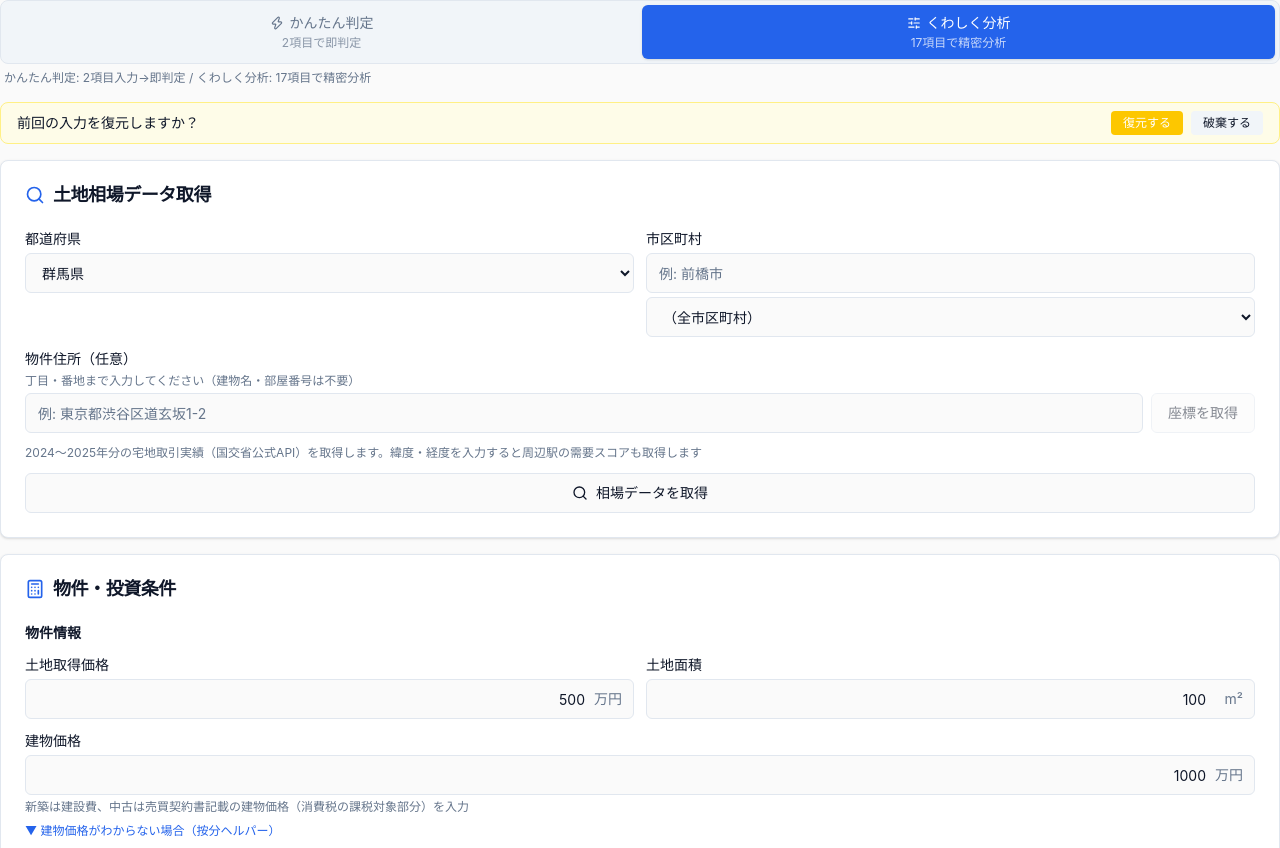
it: InvestmentForm › 住所ジオコーディング › 上流エラー時にエラーメッセージと手動入力フォールバックが表示される
Type "東京都渋谷区" into the field named "物件住所" at (584, 413), box 25,393 -> 1143,433
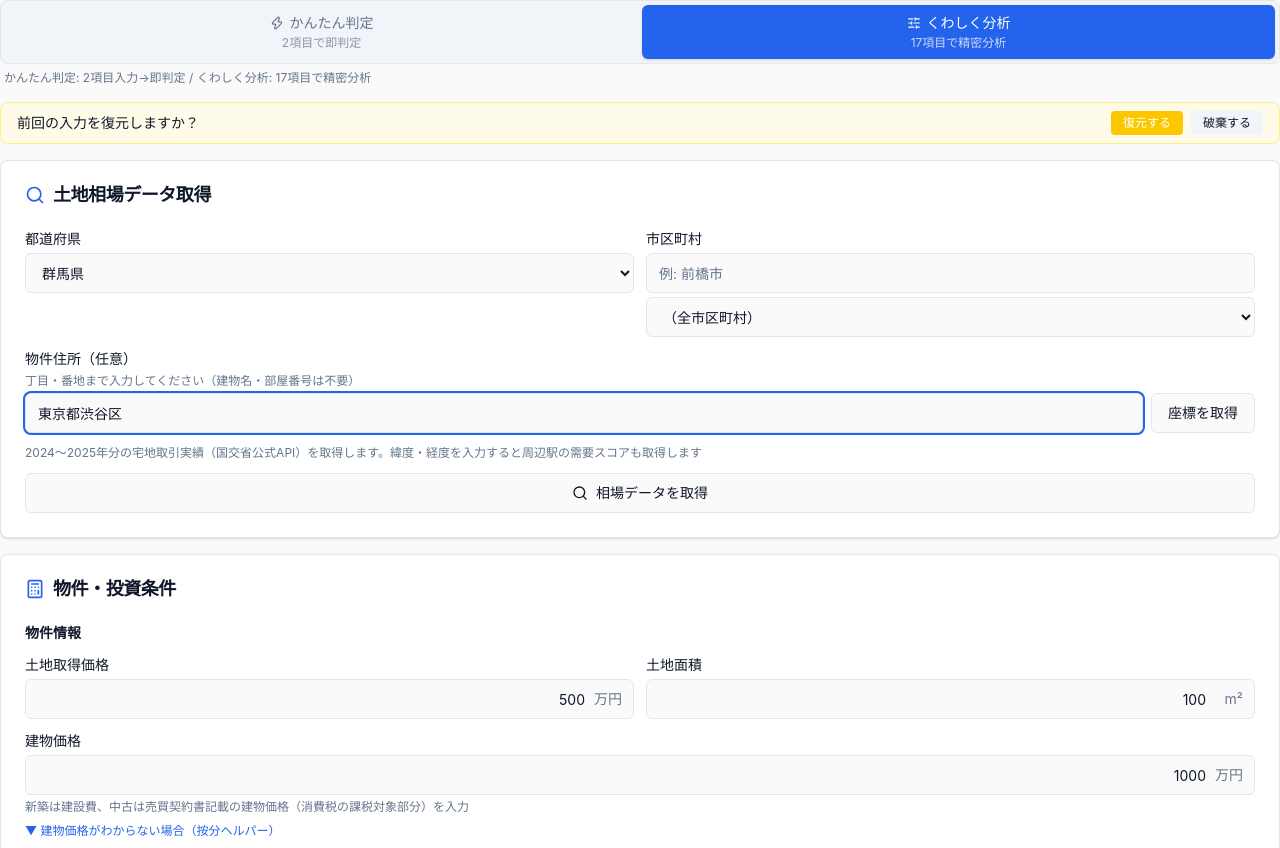
Click the button "座標を取得" at (1203, 413), box 1151,393 -> 1255,433
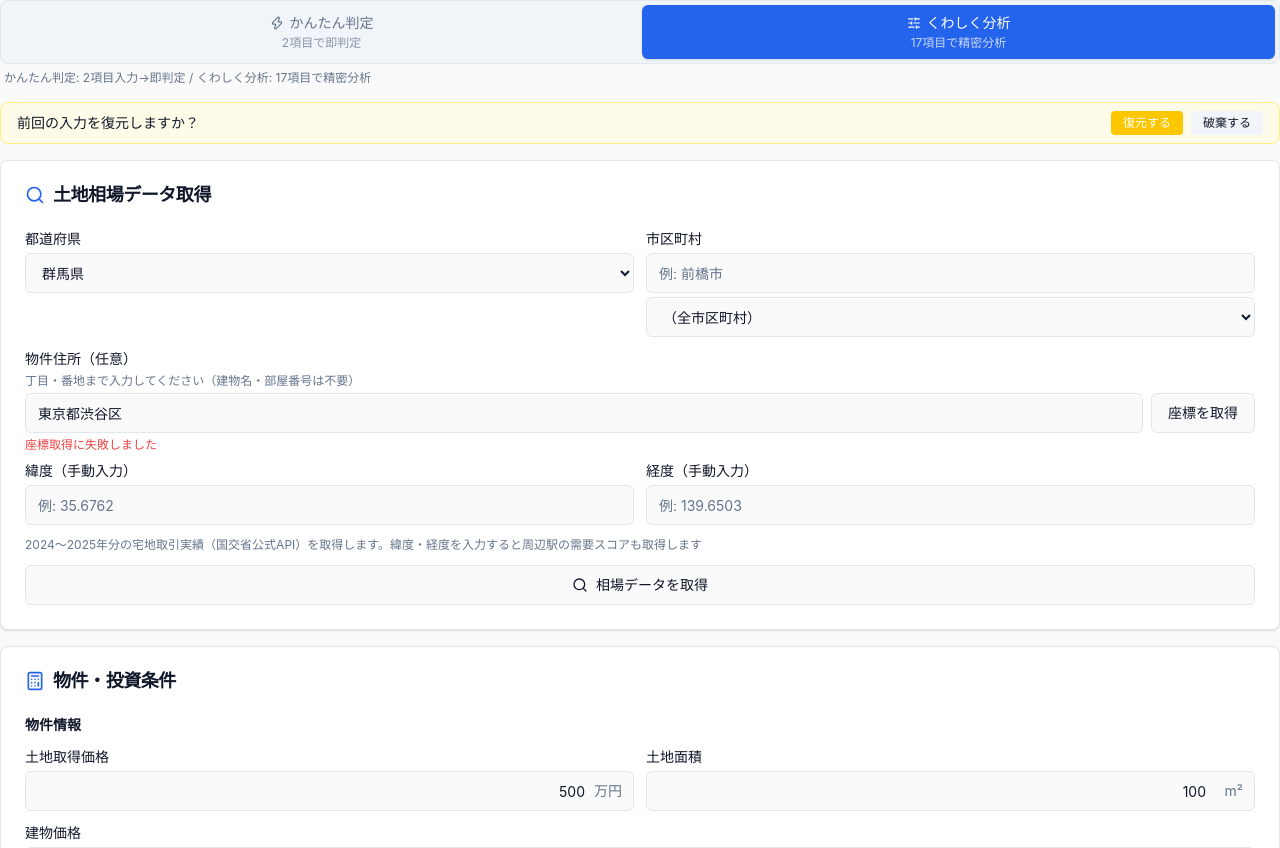
Expected: the text "座標取得に失敗しました" is shown, 25,437 -> 157,452
Expected: the number field named "物件の緯度" is shown, 25,485 -> 634,525
